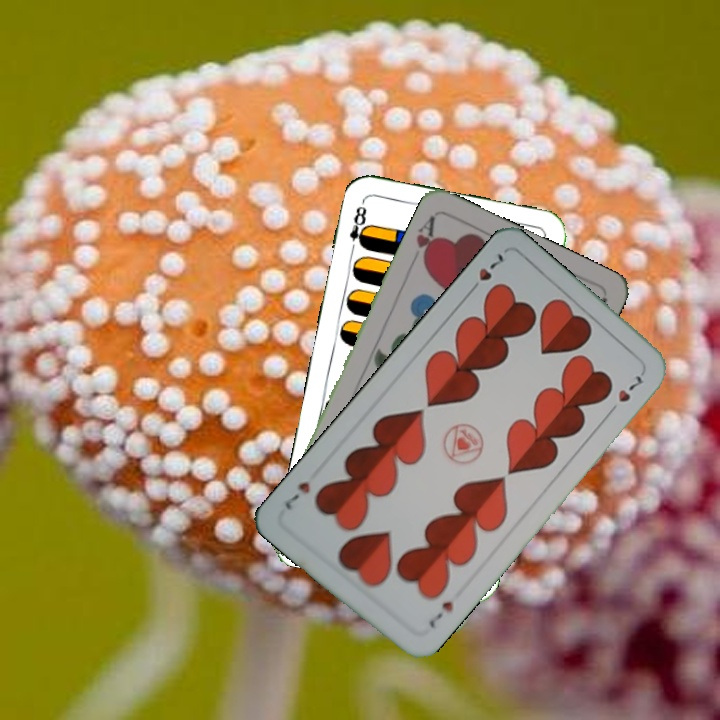E8: (345, 197, 371, 256)
H7: (464, 249, 510, 297), (424, 596, 456, 631)
HA: (412, 211, 440, 270)
